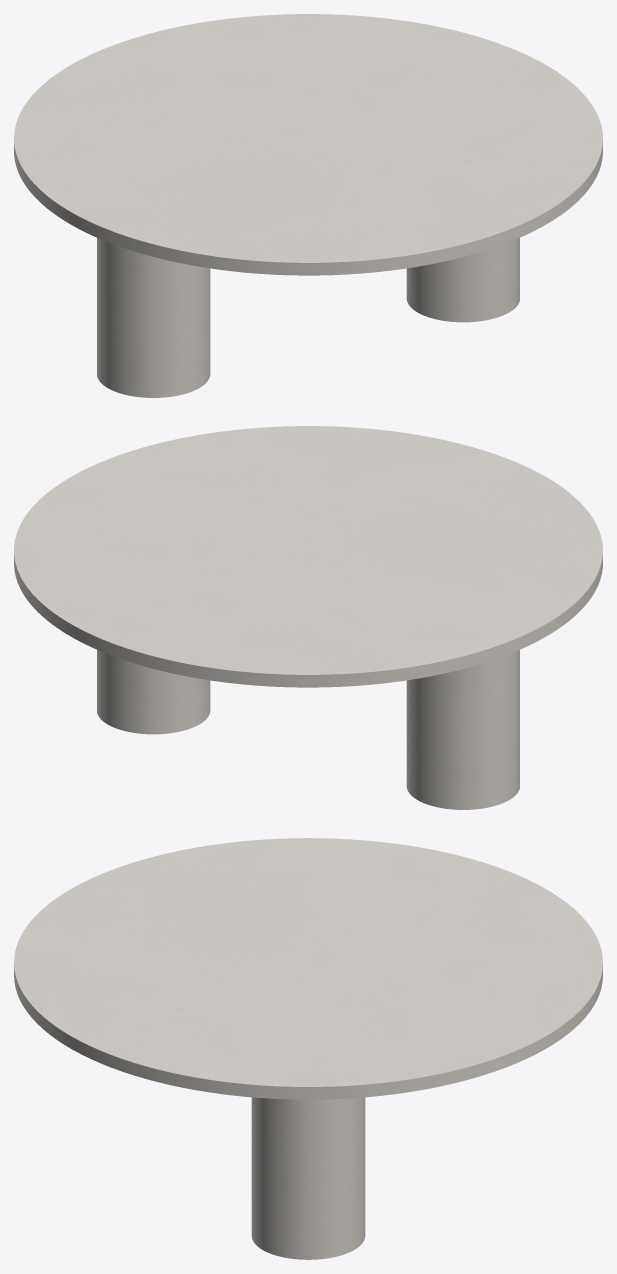
Rendered from pearlwhite_round_standard_stream.glb.
3 views of the same model, one above another, from view 1: azimuth 30°, elevation 25°; view 2: azimuth 150°, elevation 25°; view 3: azimuth 270°, elevation 25° (orthographic).
Visible parts, largest first — view 1: standard_round, stream; view 2: standard_round, stream; view 3: standard_round, stream.
Part boxes in pixels (box(x1,y1,x2,y2)): standard_round: box(14, 14, 602, 275); stream: box(97, 238, 519, 397); standard_round: box(14, 426, 602, 687); stream: box(97, 650, 519, 809); standard_round: box(14, 838, 602, 1099); stream: box(251, 1097, 365, 1259).
Bounding box in the file's own units: 6.75 × 2.5 × 6.75.
1 material, 1 textured.
